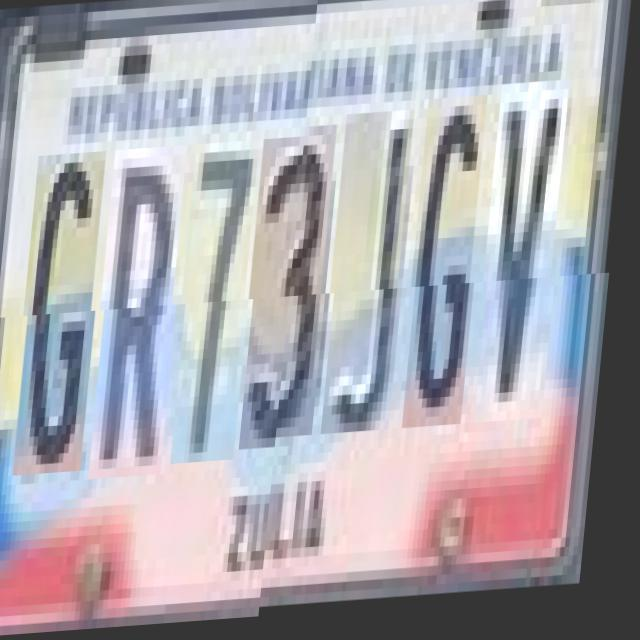3: (248, 140, 344, 454)
7: (180, 144, 268, 468)
G: (22, 152, 114, 476), (411, 112, 494, 445)
J: (329, 126, 422, 450)
R: (98, 148, 195, 482)
V: (482, 98, 576, 440)
